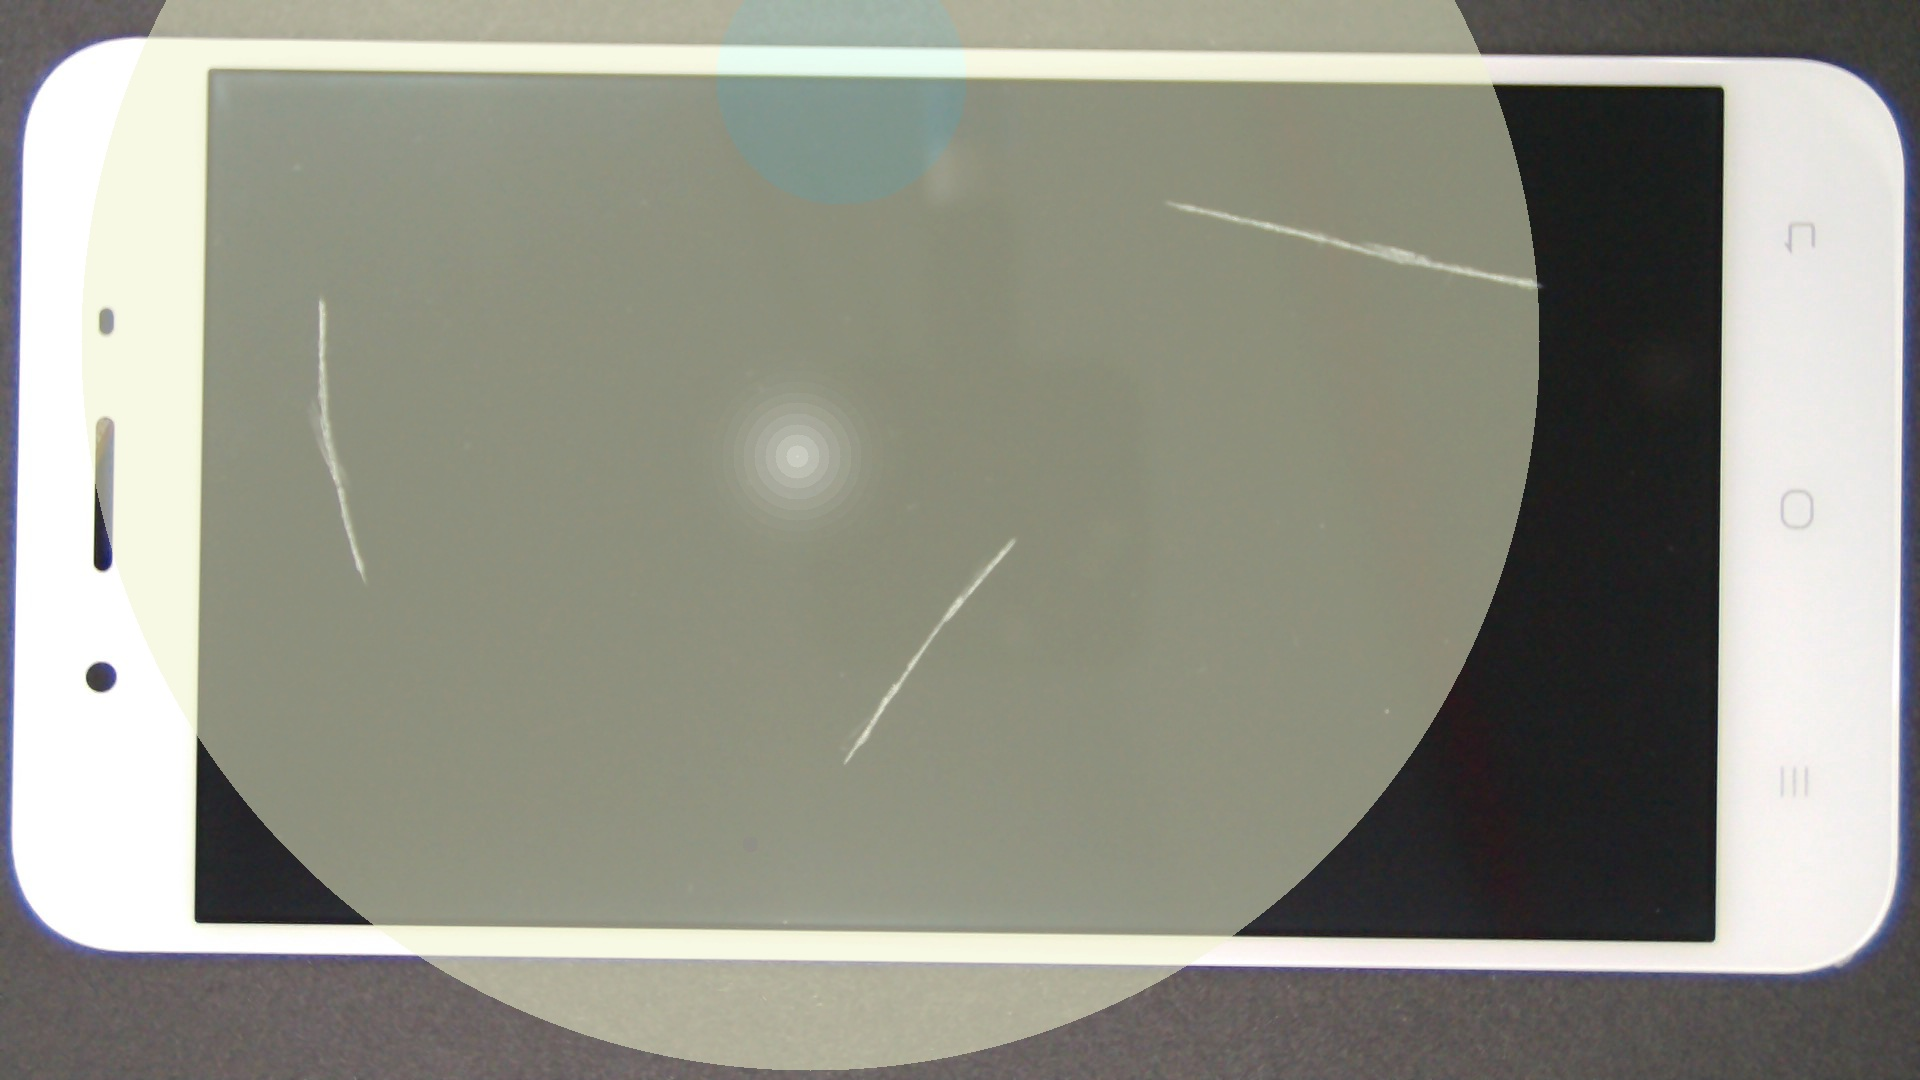oil: (506, 268, 1515, 807), (584, 99, 1751, 299), (162, 146, 480, 447)
